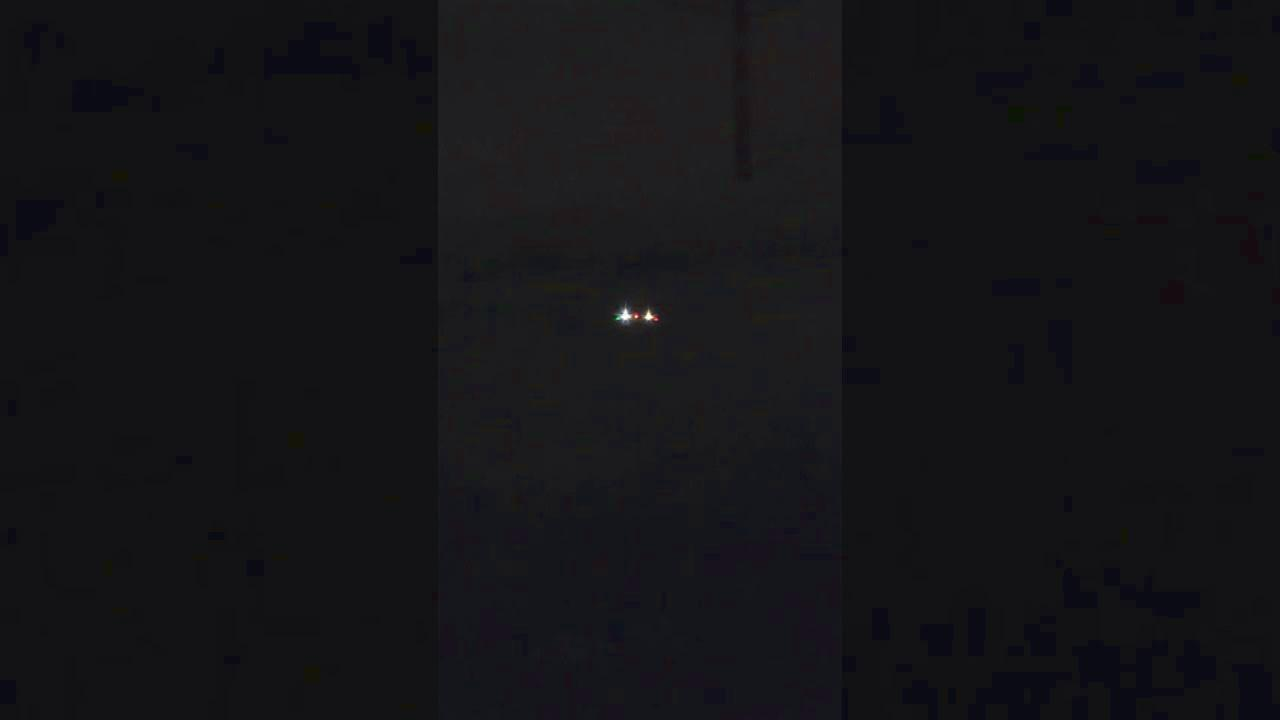Plane: (577, 287, 695, 347)
